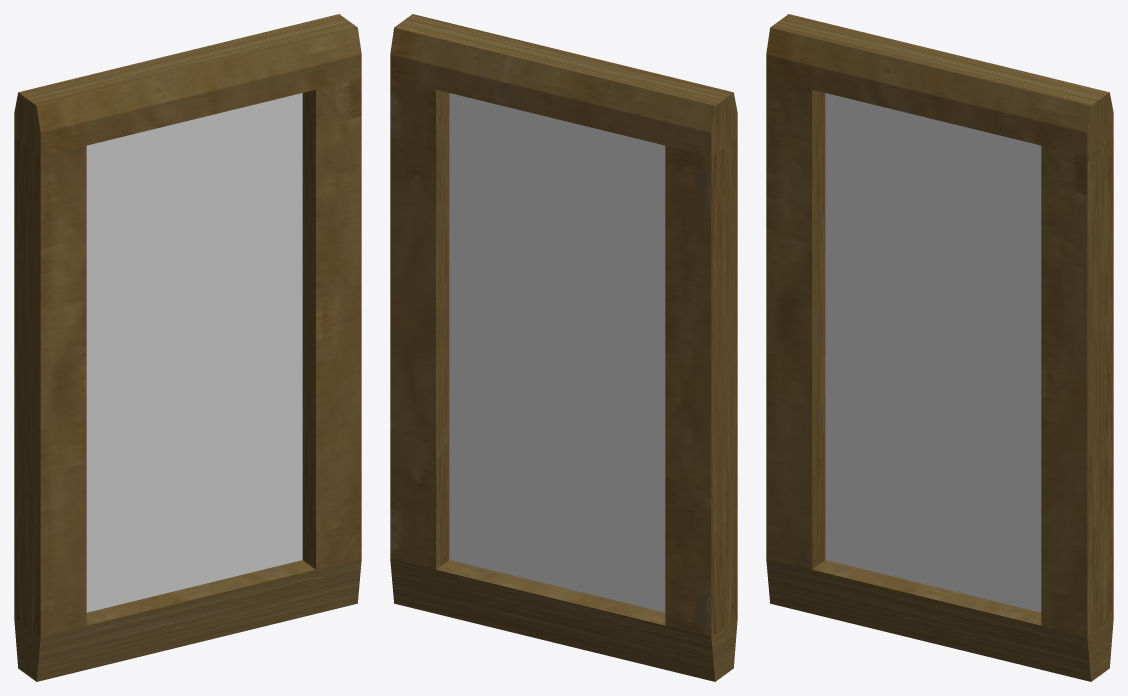
File: window.fbx
3 renders of one model, left to right at view 1: azimuth 30°, elevation 25°; view 2: azimuth 150°, elevation 25°; view 3: azimuth 330°, elevation 25°, orthographic.
Parts seen in each view (by area): view 1: Cube.003, Plane; view 2: Cube.003, Plane; view 3: Cube.003, Plane.
Part boxes in pixels (box(x1,y1,x2,y2)): Cube.003: box(14, 14, 361, 681); Plane: box(86, 93, 302, 612); Cube.003: box(390, 14, 737, 681); Plane: box(449, 93, 665, 612); Cube.003: box(766, 14, 1113, 681); Plane: box(825, 93, 1041, 612).
Size of the model in its own units: 280 by 480 by 40.
